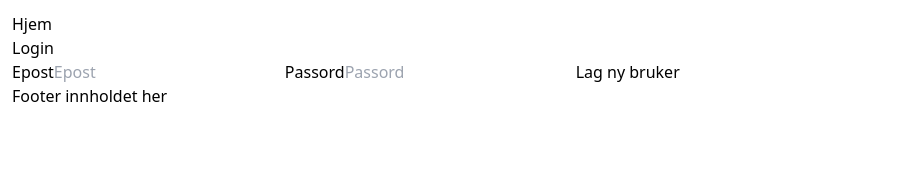
Scenario: Login Page › When submitting the form › should show error when fields are empty
This screenshot has width=915, height=172.
Step 1. Click the button → [628, 72], box 576,60 -> 680,84
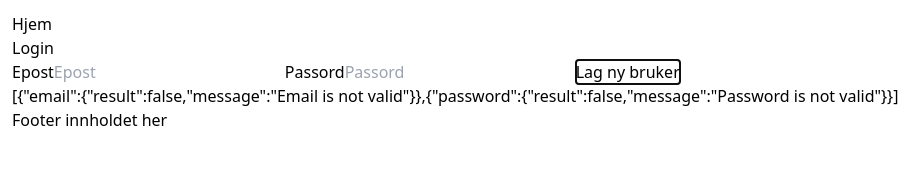
Expected: the text with test id "form-error" is shown, 12,85 -> 898,107
